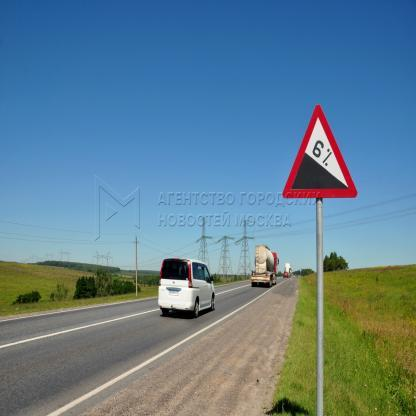road_sign: (282, 105, 356, 198)
